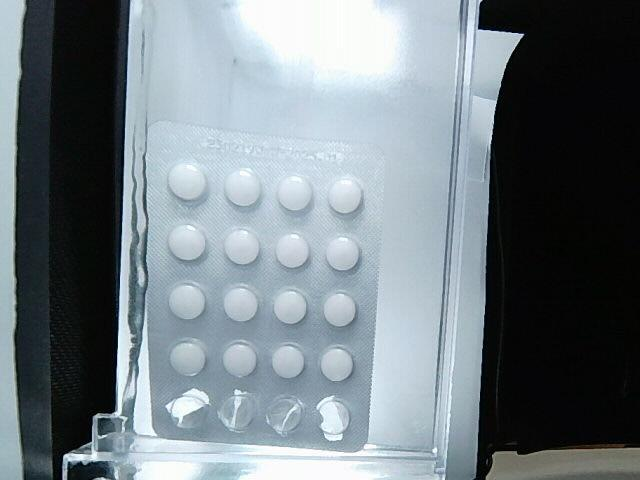Light Front: (145, 122, 389, 454)
No Pill Front: (218, 389, 259, 432), (165, 390, 210, 428), (265, 395, 305, 436), (316, 396, 349, 440)
Pill Front: (168, 163, 206, 202), (225, 169, 261, 207), (169, 339, 206, 375), (168, 225, 206, 260), (276, 175, 312, 211), (328, 178, 363, 214), (225, 229, 260, 265), (273, 289, 308, 325), (224, 285, 259, 321), (170, 284, 206, 319), (223, 340, 258, 376), (275, 234, 310, 269), (325, 236, 360, 271), (320, 345, 353, 381), (323, 291, 356, 326), (273, 344, 305, 378)
